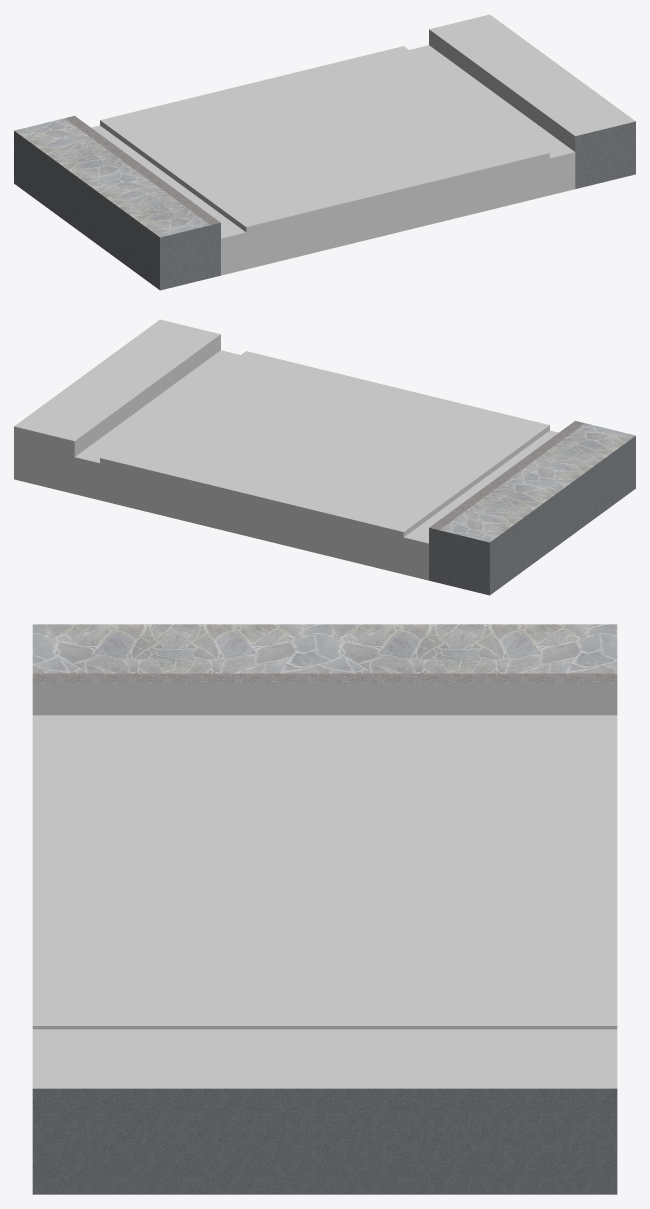
File: 3D Road.glb
3 views of the same model, one above another, from view 1: azimuth 30°, elevation 25°; view 2: azimuth 150°, elevation 25°; view 3: azimuth 270°, elevation 25° (orthographic). The views are drawn at different scales.
Visible parts, largest first — view 1: 3D road; view 2: 3D road; view 3: 3D road.
Part boxes in pixels (x1,y1,x2,y2): 3D road: (14,14,635,290); 3D road: (14,319,635,595); 3D road: (32,624,617,1194).
Bounding box in the file's own units: 9.4 × 1 × 5.
4 materials, 3 textured.
